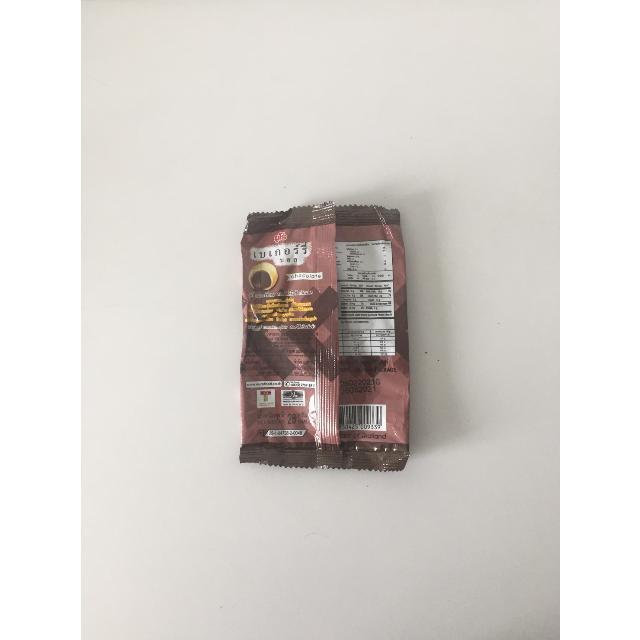Paquete de plastico: (240, 205, 414, 473)
